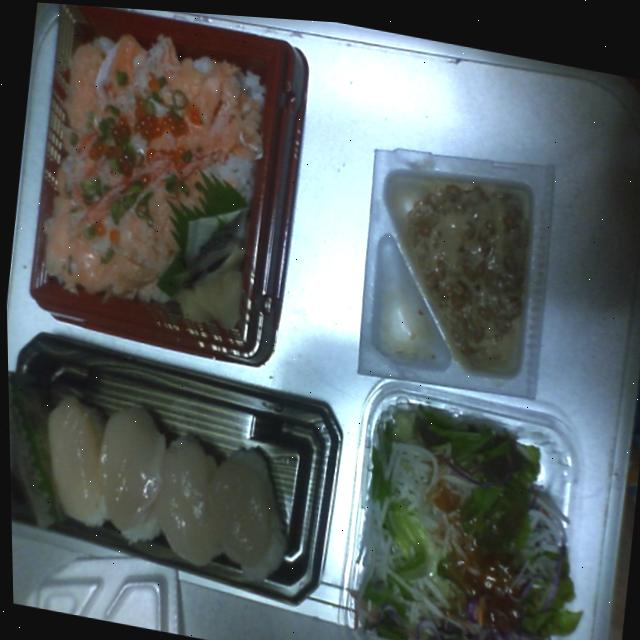寿司卷物: (12, 367, 314, 600)
蔬菜料理: (333, 371, 590, 640)
